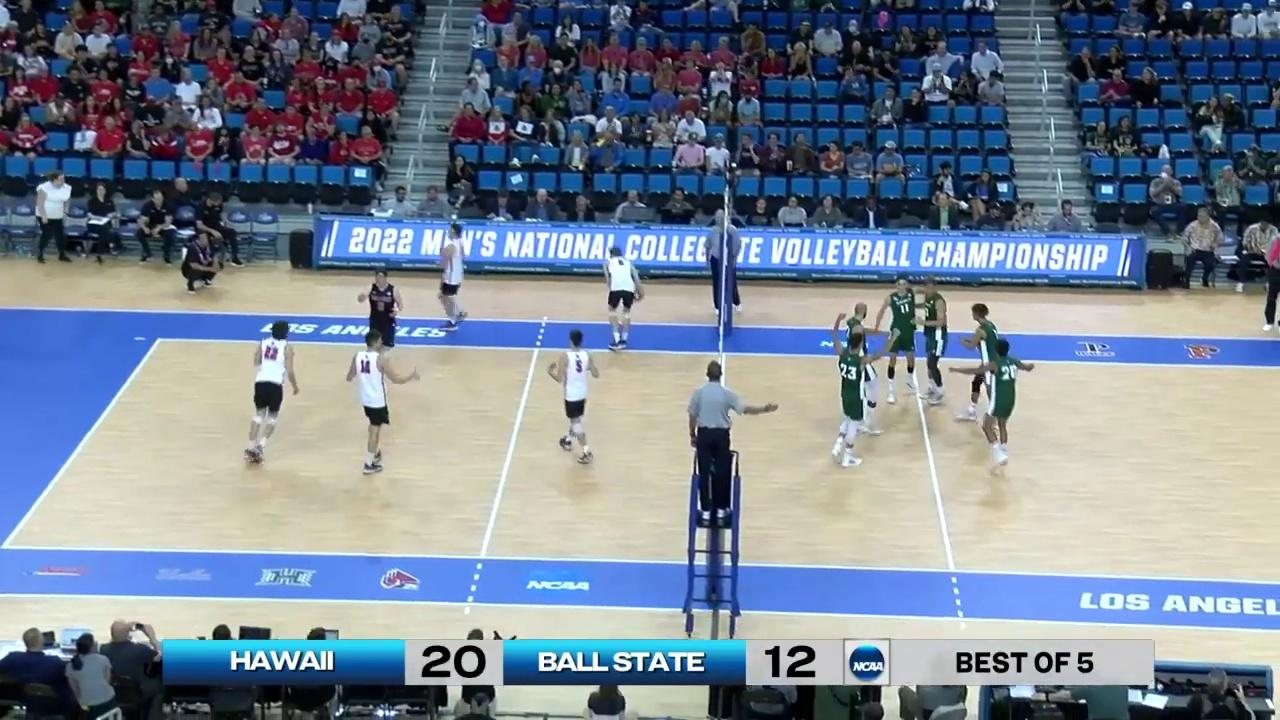player: (242, 323, 300, 462), (348, 330, 400, 477), (549, 329, 600, 465), (828, 331, 875, 472), (977, 340, 1027, 472), (837, 296, 883, 431), (961, 305, 1005, 424), (597, 248, 644, 356), (883, 276, 922, 405), (359, 271, 401, 373), (918, 280, 949, 407), (435, 224, 468, 331)
refree: (687, 361, 746, 521), (707, 211, 744, 316)
